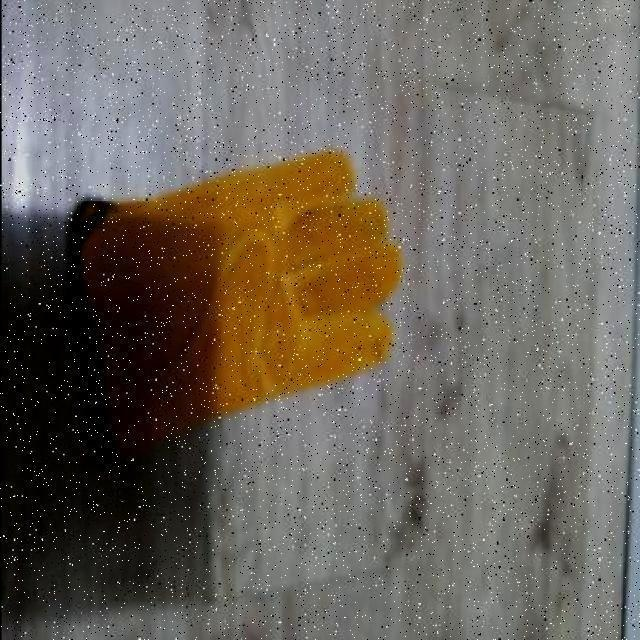Guantes: (64, 147, 403, 458)
